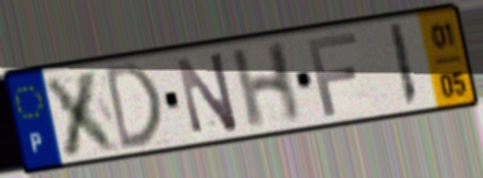D: (101, 58, 165, 155)
F: (304, 29, 361, 120)
H: (228, 38, 304, 133)
I: (385, 19, 422, 111)
N: (172, 48, 242, 137)
X: (39, 66, 126, 160)
